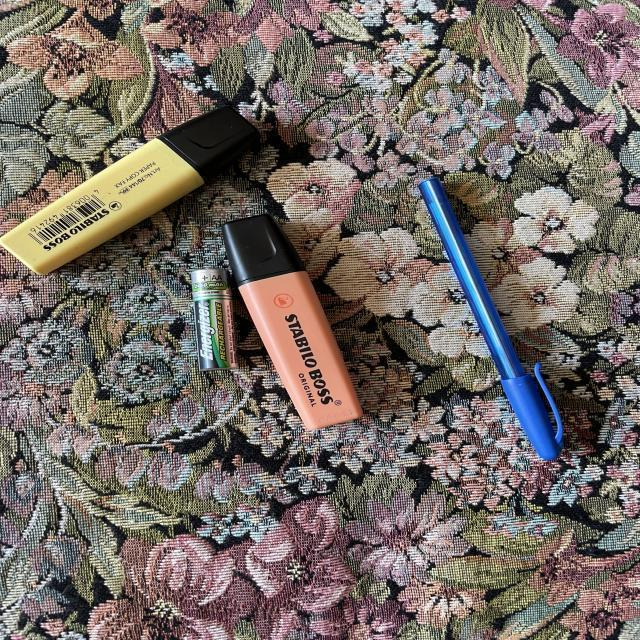Hazard: (192, 266, 240, 372)
